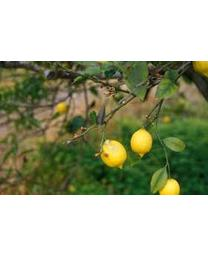lemon: (100, 141, 127, 168), (131, 129, 153, 158)
